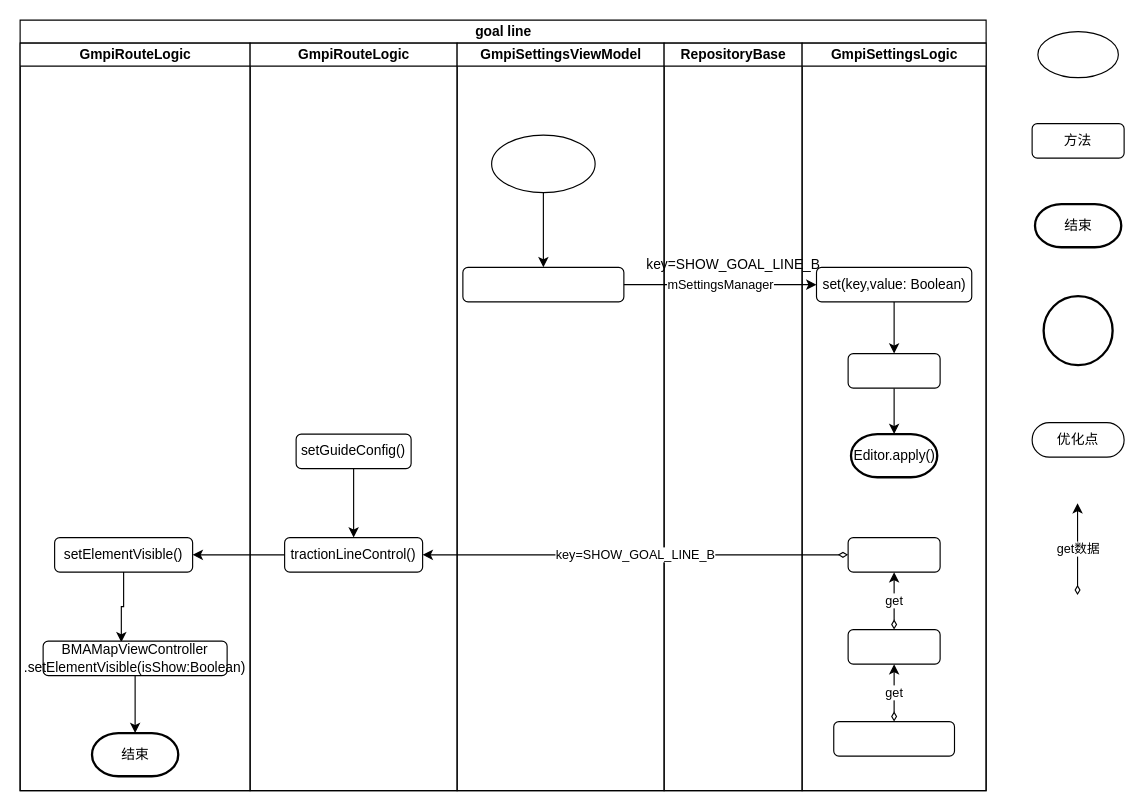
This 1144x811 diagram has some shape labels left out. The shapes that lost their labels are listed below. From the top down, each one's centre as x and y in pixels, then its label:
At pixel 1077 54: "事件响应".
At pixel 542 163: "selectCarLogo".
At pixel 543 284: "changeShowGoalLine()".
At pixel 1077 330: "开始".
At pixel 893 370: "setInternal()".
At pixel 893 554: "getBlooean()".
At pixel 893 646: "getInternal".
At pixel 893 738: "SharedPreference".
